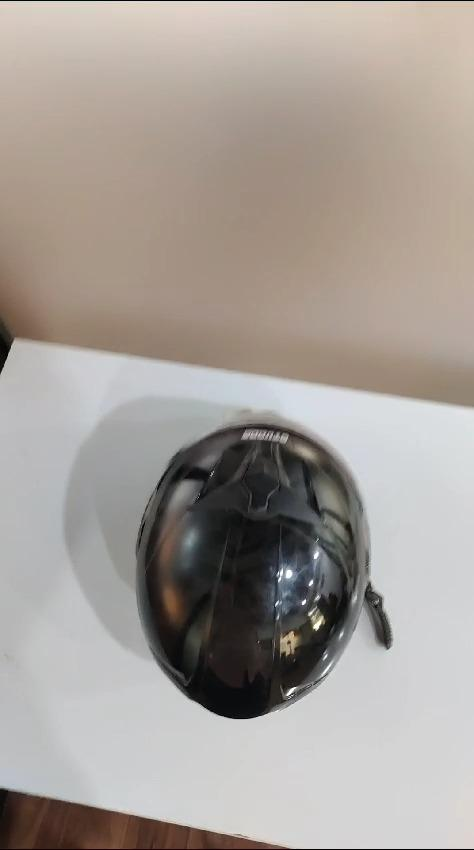Helmet: (128, 414, 373, 742)
